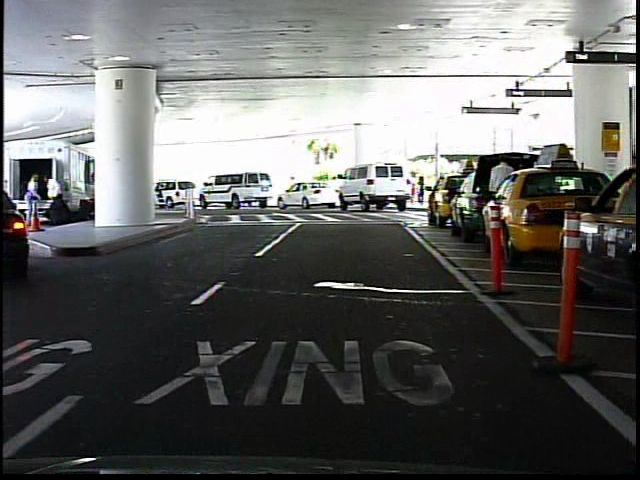person: (482, 153, 517, 243), (284, 173, 300, 204), (414, 174, 428, 207)
